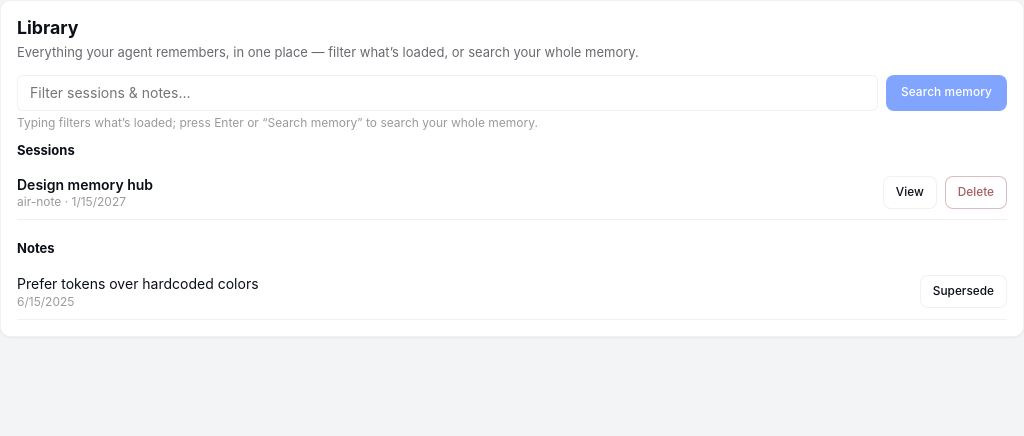
Test: LibraryPanel › a failed re-list after a successful save keeps the panel up (localized notice, not the fatal card)
Check: the text "Prefer tokens over hardcoded colors" is shown, box [17,274,259,294]
Click the button "Supersede" at [963, 292], box [920,275,1007,308]
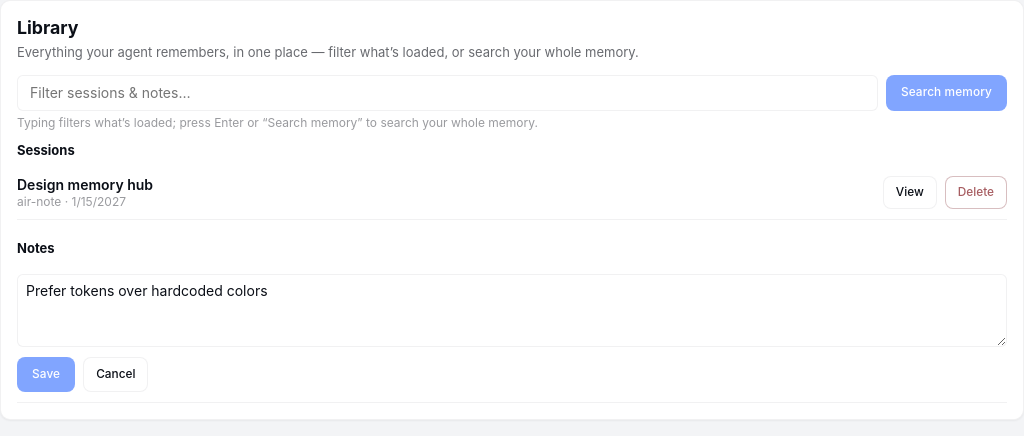
Replace the text in the text box named "edit note" with "corrected text that saves fine" at [512, 311], box [17,274,1007,347]
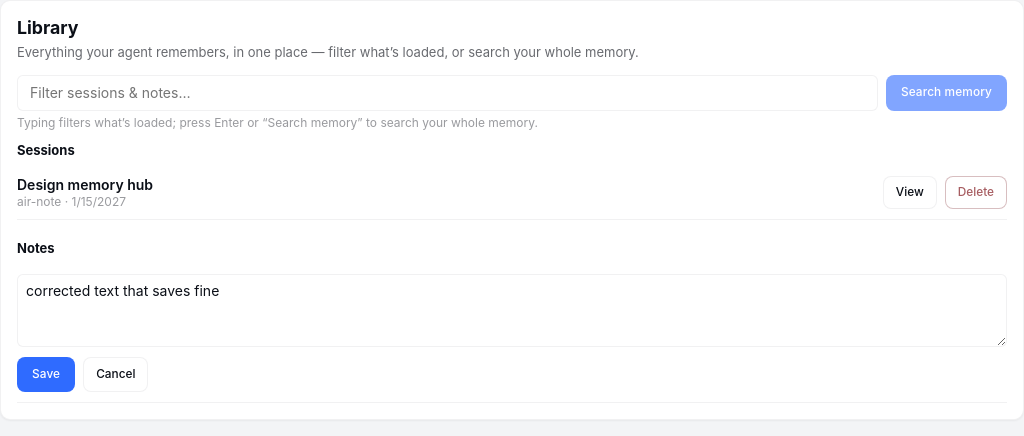
Click the button "Save" at [46, 374], box [17,357,75,392]
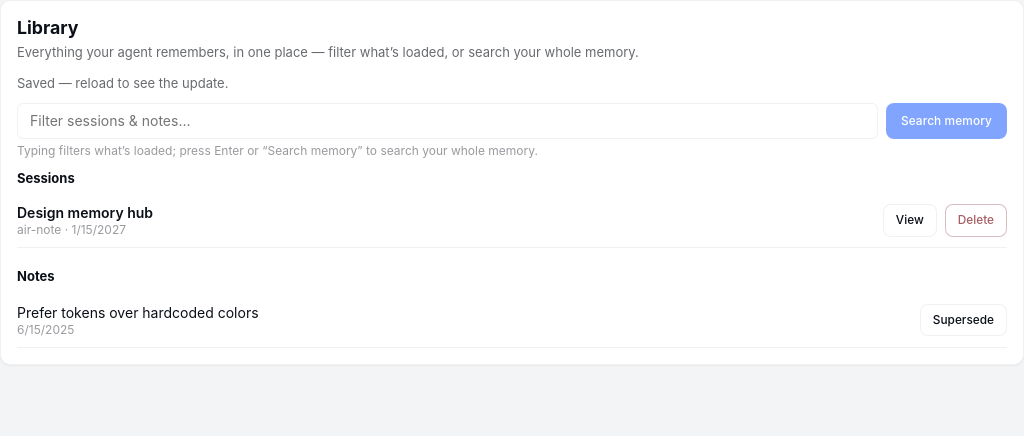
Check: the text "Design memory hub" is shown, box [17,204,153,222]
Check: the text "Saved — reload to see the update." is shown, box [17,75,228,91]
